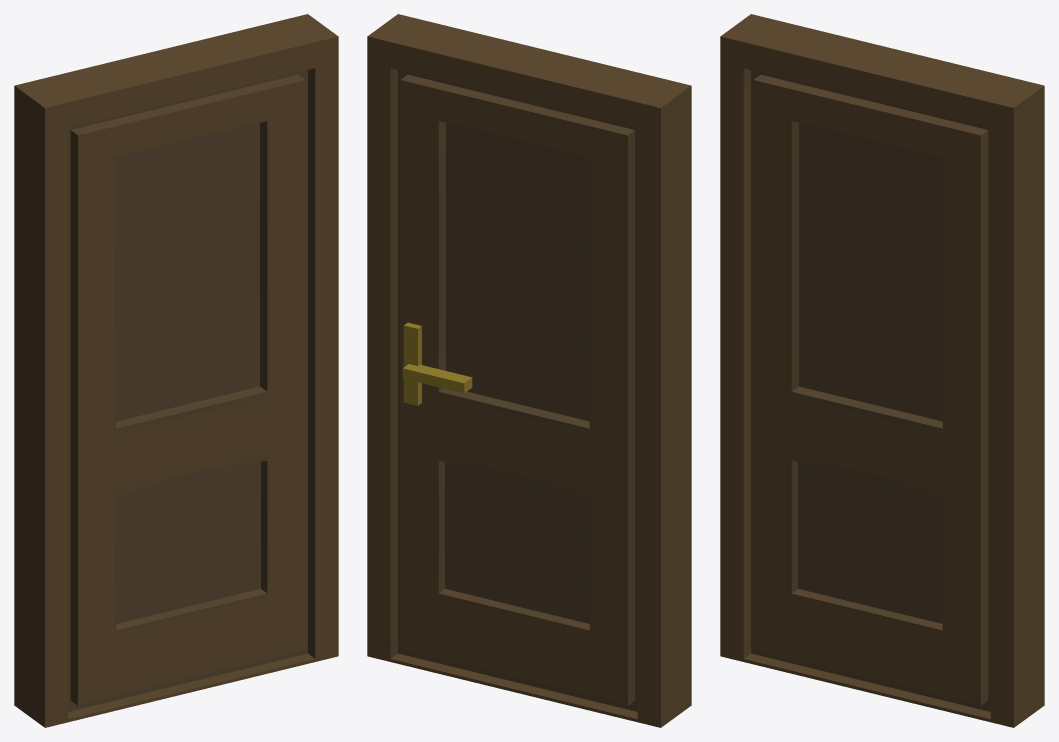
Rendered from door.obj.
3 views of the same model, side by side, from view 1: azimuth 30°, elevation 25°; view 2: azimuth 150°, elevation 25°; view 3: azimuth 330°, elevation 25° (orthographic).
Visible parts, largest first — view 1: 立方体; view 2: 立方体; view 3: 立方体.
Part boxes in pixels (<box>): 立方体: <box>14,14,338,727</box>; 立方体: <box>367,14,691,727</box>; 立方体: <box>720,14,1044,727</box>.
Bounding box in the file's own units: 2 × 4.04 × 0.4814.
